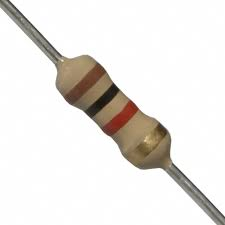resistor: (38, 34, 196, 203)
